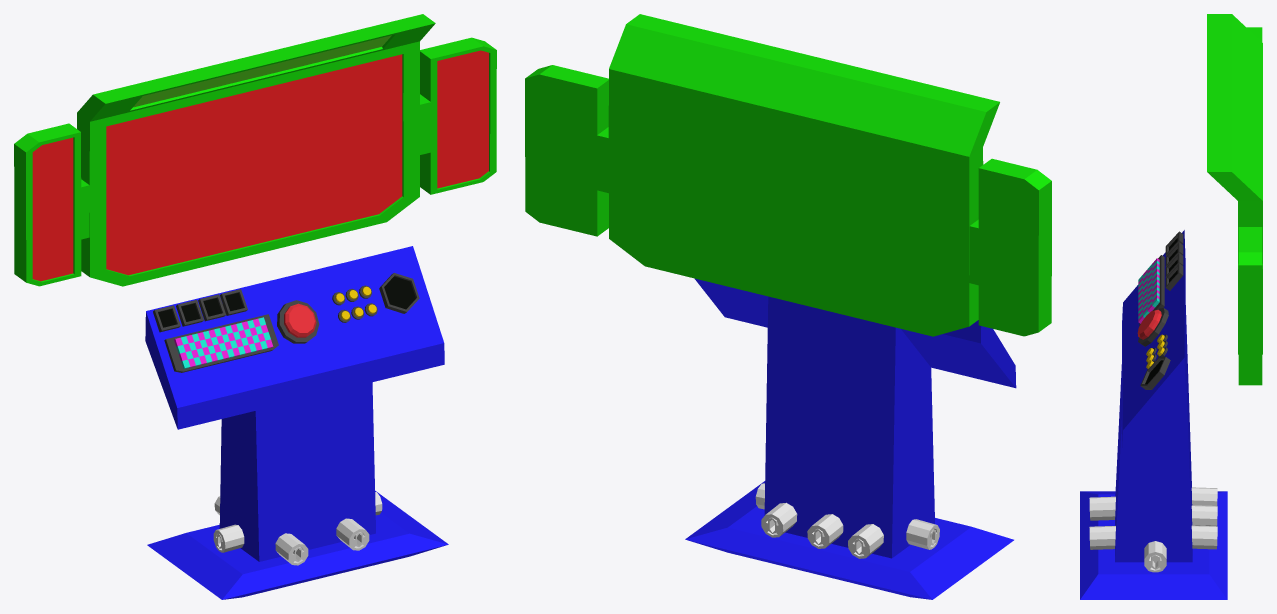
Rendered from MainScreen.fbx.
3 views of the same model, side by side, from view 1: azimuth 30°, elevation 25°; view 2: azimuth 150°, elevation 25°; view 3: azimuth 270°, elevation 25° (orthographic). The views are drawn at different scales.
Visible parts, largest first — view 1: screen, pannel; view 2: screen, pannel; view 3: pannel, screen.
Boxes of the visible parts, bbox=[...] form: screen: bbox=[14, 14, 496, 286]; pannel: bbox=[145, 246, 448, 599]; screen: bbox=[525, 14, 1051, 336]; pannel: bbox=[685, 278, 1016, 599]; pannel: bbox=[1080, 230, 1227, 599]; screen: bbox=[1207, 14, 1262, 385].
Size of the model in its own units: 855 by 821 by 293.
